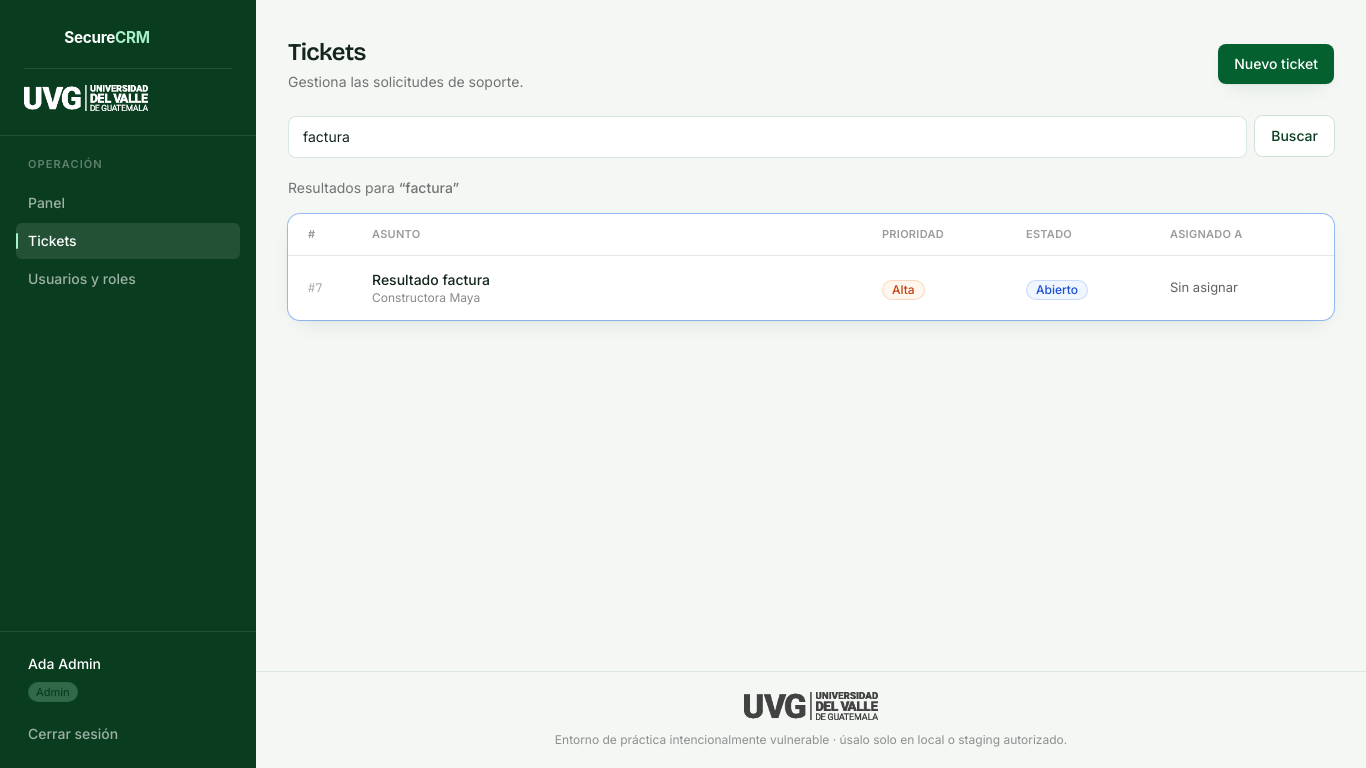
/tickets › usa ?q= inicial y al buscar actualiza la URL y consulta la API codificando el término
This screenshot has width=1366, height=768.
Check: the text "Resultado factura" is shown, box [372,270,490,288]
Check: the text "Resultados para “factura”" is shown, box [288,179,459,196]
Replace the text in the field with placeholder "Buscar por título, descripción o cliente…" with "O'Brien & co". click: (768, 137)
box: [288,116,1247,158]
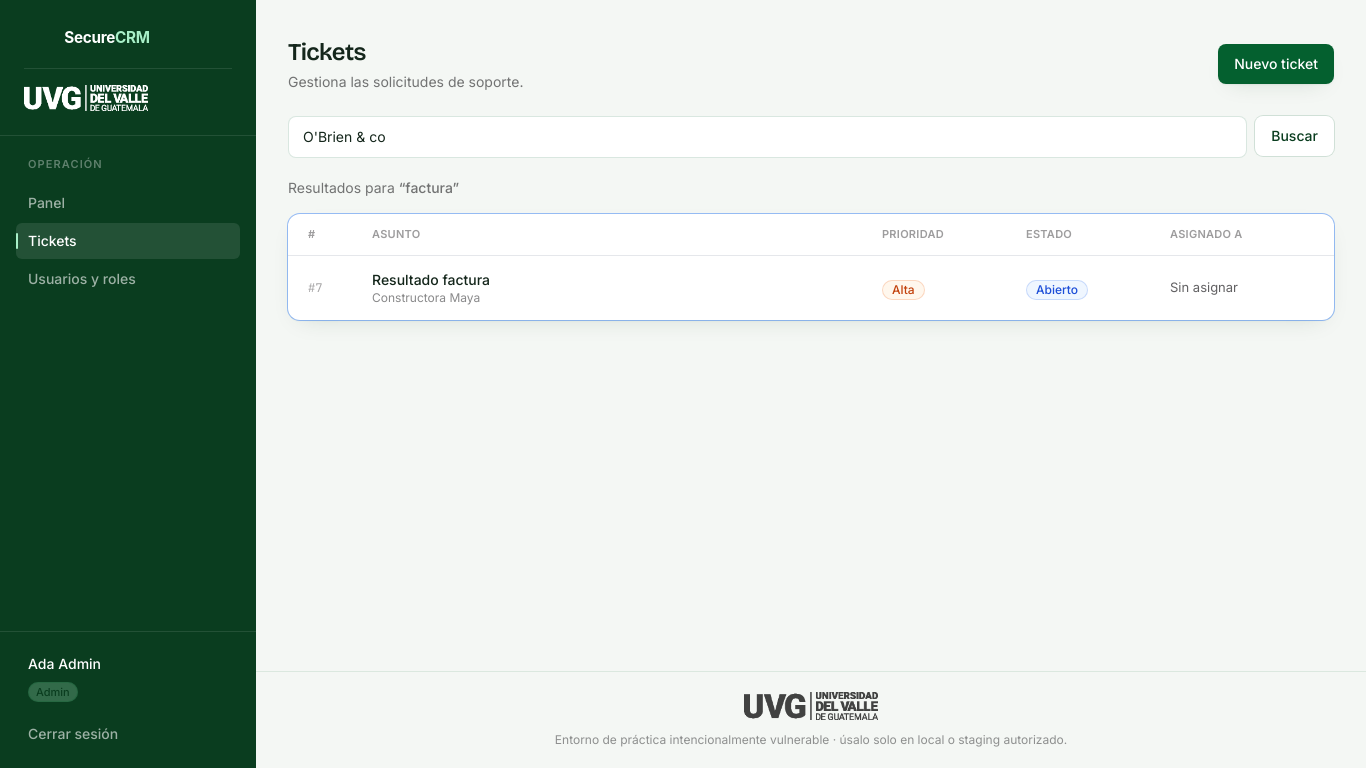
Click the button "Buscar". click: (1295, 136)
box: [1255,116,1334,156]
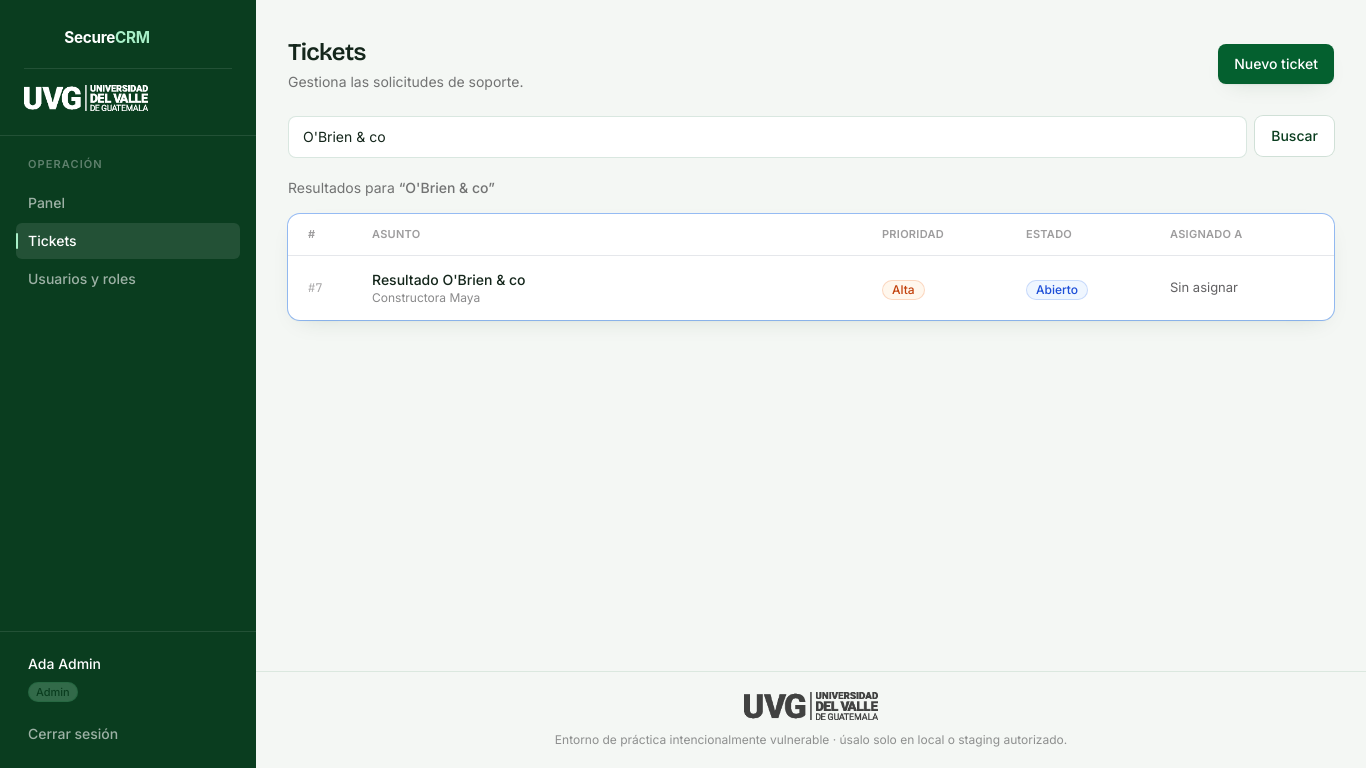
Check: the text "Resultado O'Brien & co" is shown, box [372,270,526,288]
Clear the field with placeholder "Buscar por título, descripción o cliente…". click: (768, 137)
box: [288,116,1247,158]
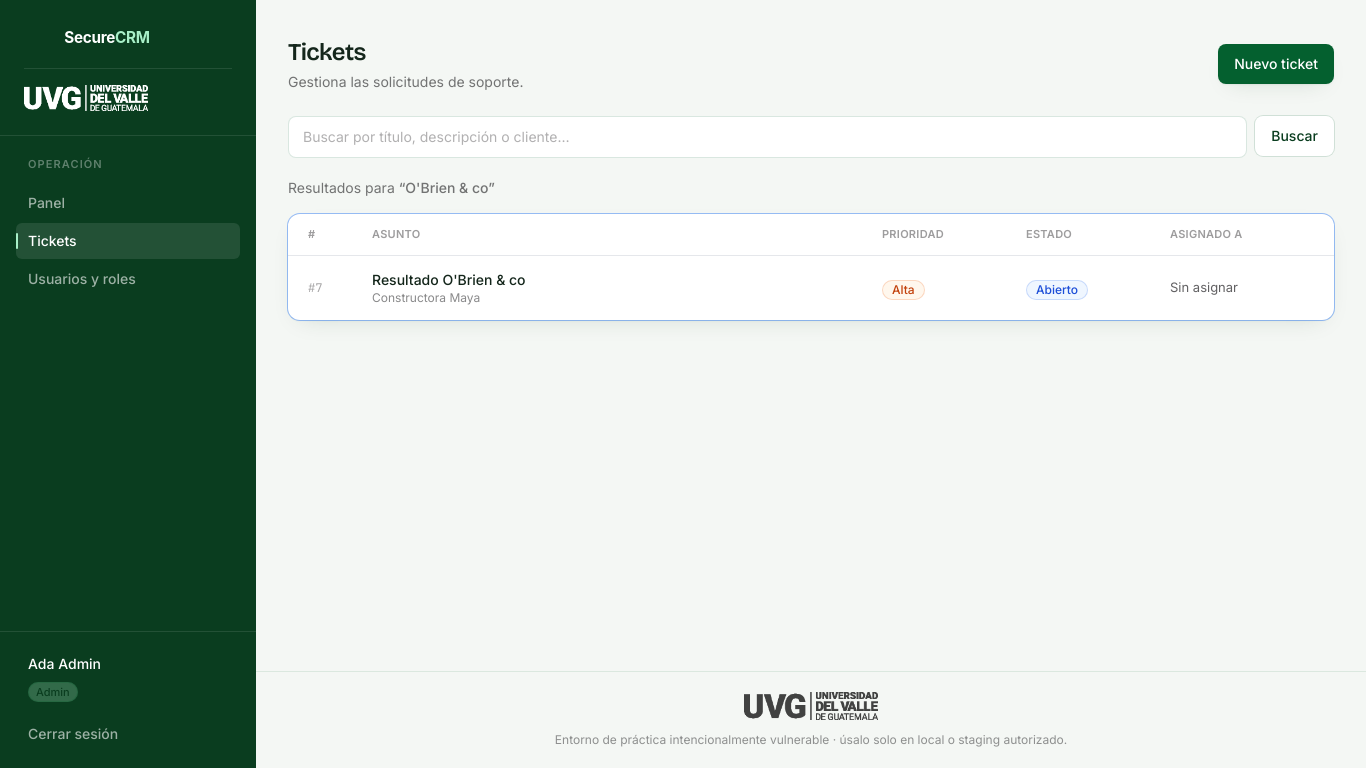
Click the button "Buscar". click: (1295, 136)
box: [1255,116,1334,156]
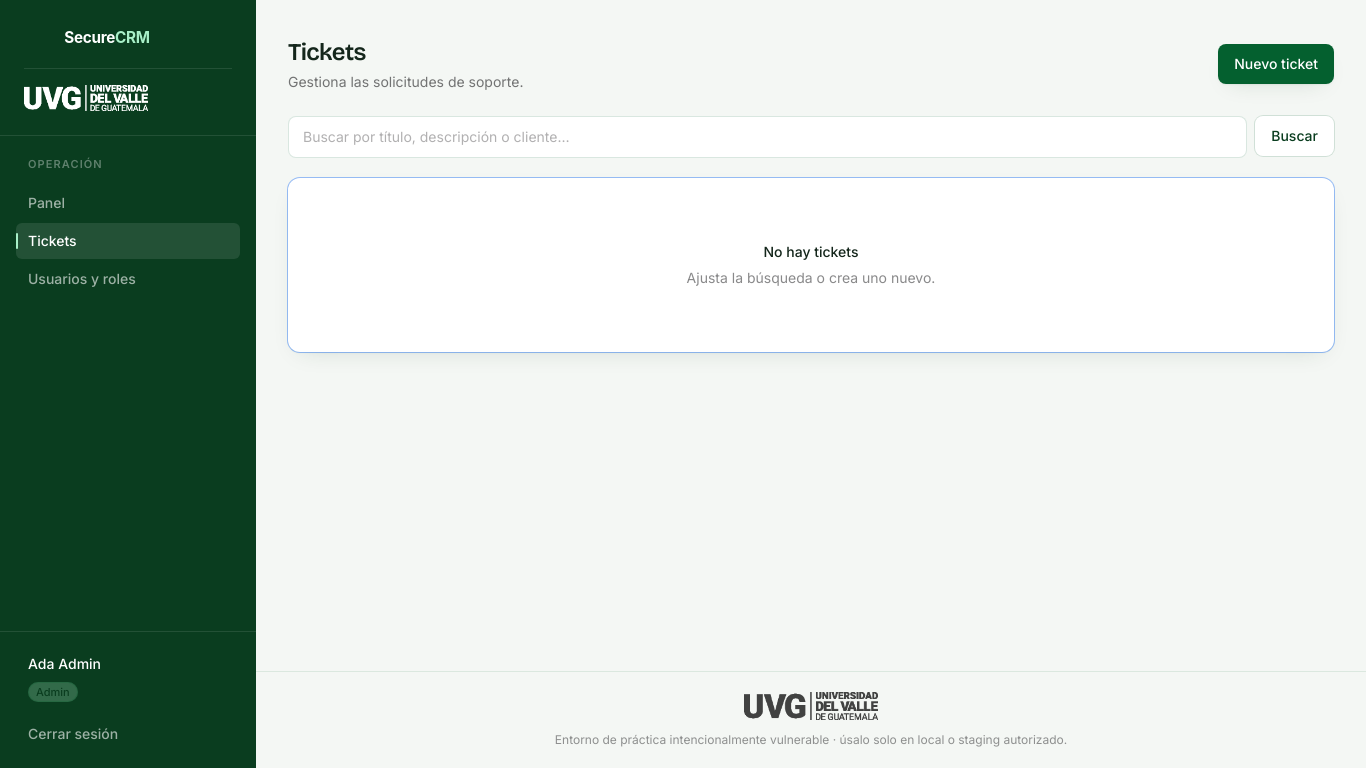
Check: the text "No hay tickets" is shown, box [764,242,858,262]
